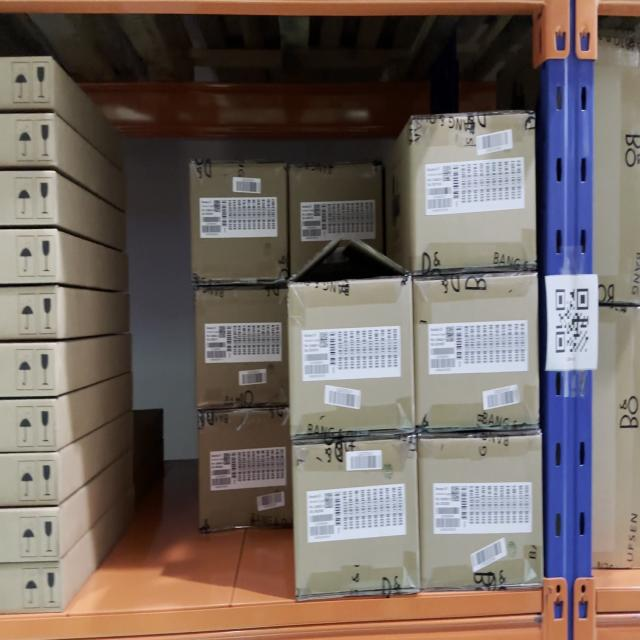box: (412, 112, 536, 272), (293, 437, 419, 593), (420, 438, 545, 592), (416, 277, 540, 431), (290, 283, 416, 431), (190, 160, 288, 284), (289, 162, 387, 276), (196, 286, 289, 401), (201, 410, 290, 529)
